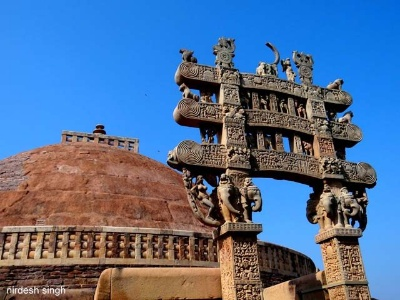torana: (150, 26, 388, 287)
